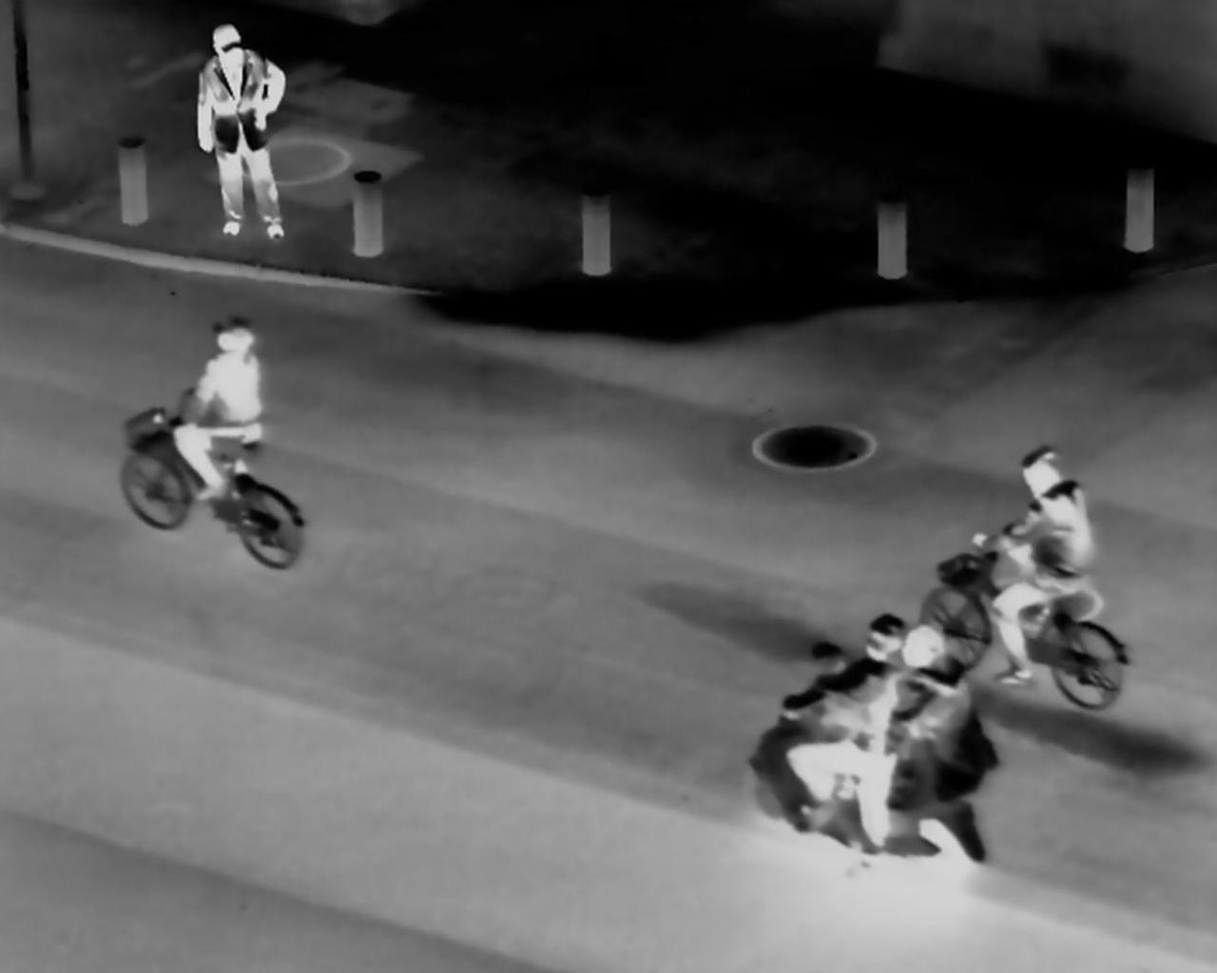person: (983, 439, 1104, 699), (885, 603, 992, 852), (181, 24, 299, 241), (164, 309, 286, 508), (809, 601, 907, 806)
